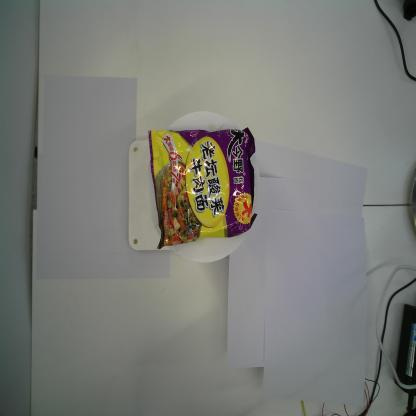Instant Noodles: (148, 127, 258, 251)
